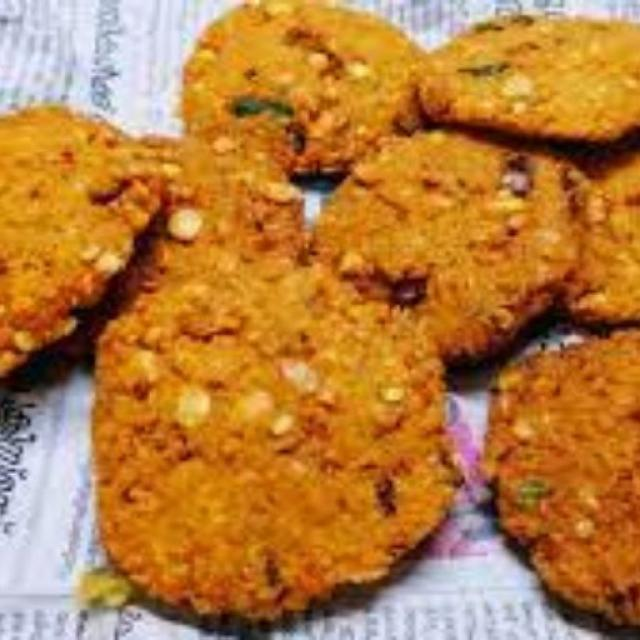dhal wade: (122, 259, 452, 624), (328, 152, 596, 341), (501, 330, 640, 595), (207, 7, 420, 170), (9, 103, 155, 316), (449, 8, 640, 152)
